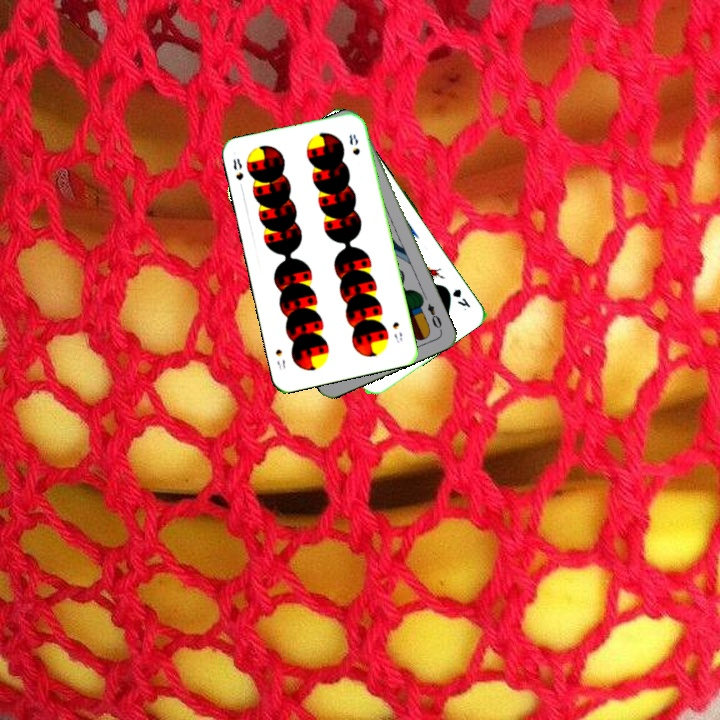EO: (423, 299, 445, 334)
GK: (448, 285, 473, 313)
S8: (229, 154, 246, 183), (388, 317, 405, 345)
